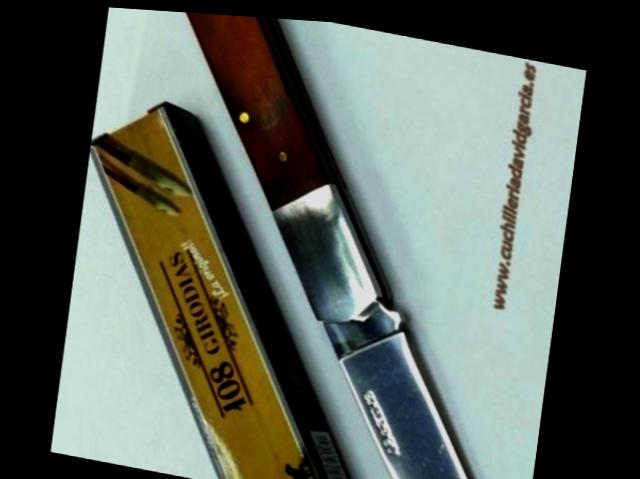pocket-knife: (87, 5, 586, 479)
